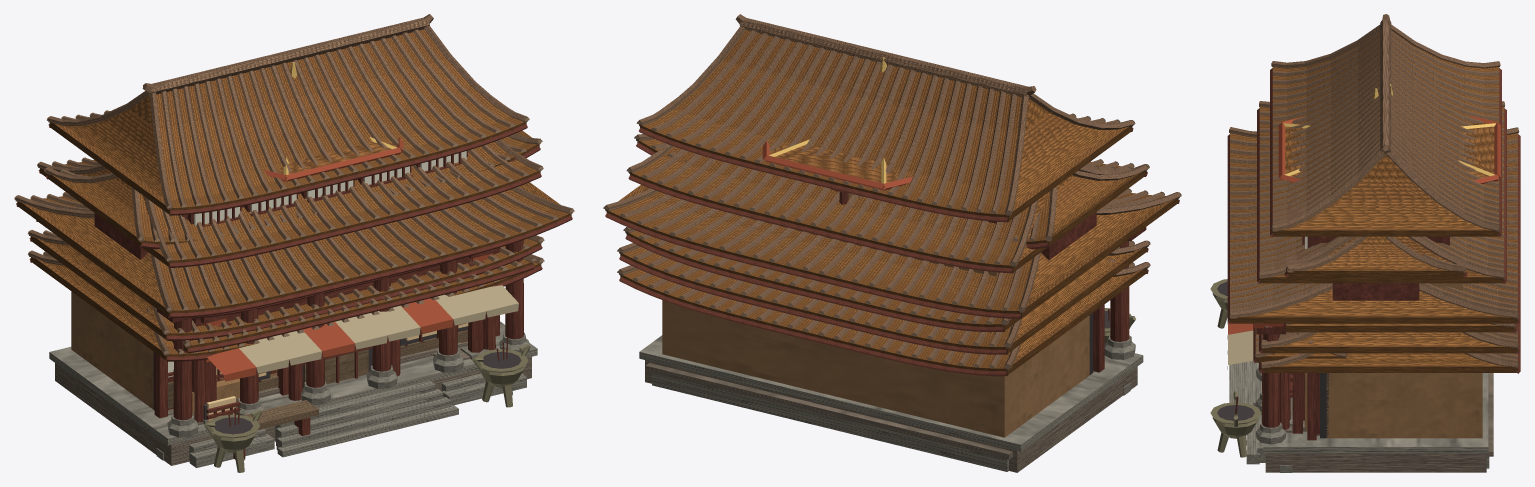
File: regional_temple.glb
The picture shows the model from 3 angles, left to right: view 1: azimuth 30°, elevation 25°; view 2: azimuth 150°, elevation 25°; view 3: azimuth 270°, elevation 25°; orthographic projection. The views are drawn at different scales.
Parts seen in each view (by area): view 1: hall, inn, home, shop, wing, gate, cottage; view 2: hall, inn, wing, home, cottage, gate; view 3: hall, inn, wing, gate, home, cottage, shop.
Boxes of the visible parts, x1,y1,x2,y2 form: hall: (14,14,574,472); inn: (37,139,543,422); home: (27,230,544,422); shop: (146,285,518,459); wing: (36,136,526,467); gate: (44,62,542,460); cottage: (28,250,544,381); hall: (603,14,1181,472); inn: (626,144,1149,276); wing: (623,57,1128,471); home: (617,240,1150,354); cottage: (617,262,1150,376); gate: (634,134,1148,395); hall: (1210,14,1520,472); inn: (1253,101,1506,429); wing: (1246,84,1517,468); gate: (1280,88,1467,472); home: (1259,322,1520,433); cottage: (1259,352,1520,420); shop: (1227,322,1313,369).
Size of the model in its own units: 2.26 by 1.74 by 1.57.
1 material, 1 textured.
